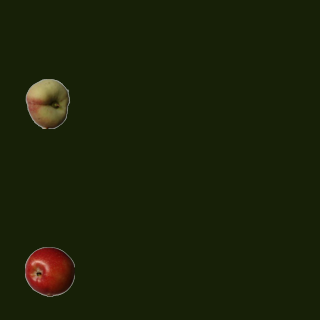Apple Braeburn: (24, 246, 74, 296)
Peach Flat: (22, 78, 72, 128)
